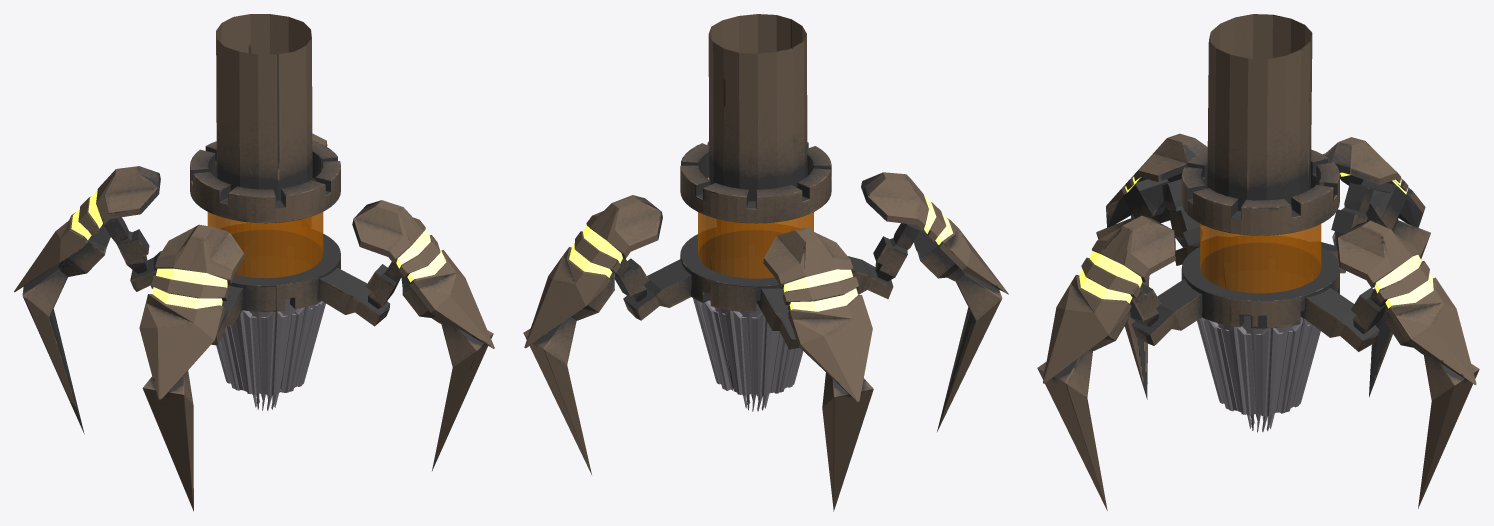
File: machine_upper2.fbx
3 renders of one model, left to right at view 1: azimuth 30°, elevation 25°; view 2: azimuth 150°, elevation 25°; view 3: azimuth 270°, elevation 25°, orthographic. The views are drawn at different scales.
Parts seen in each view (by area): view 1: 01; view 2: 01; view 3: 01.
Boxes of the visible parts, x1,y1,x2,y2 form: 01: [14, 14, 494, 511]; 01: [523, 14, 1008, 511]; 01: [1037, 14, 1479, 510].
Size of the model in its own units: 8.69 by 10.49 by 9.84.
